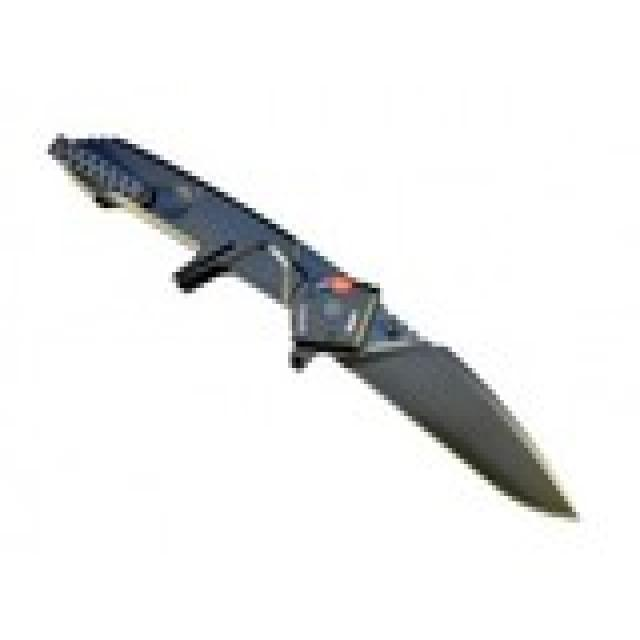Knife: (41, 94, 586, 524)
